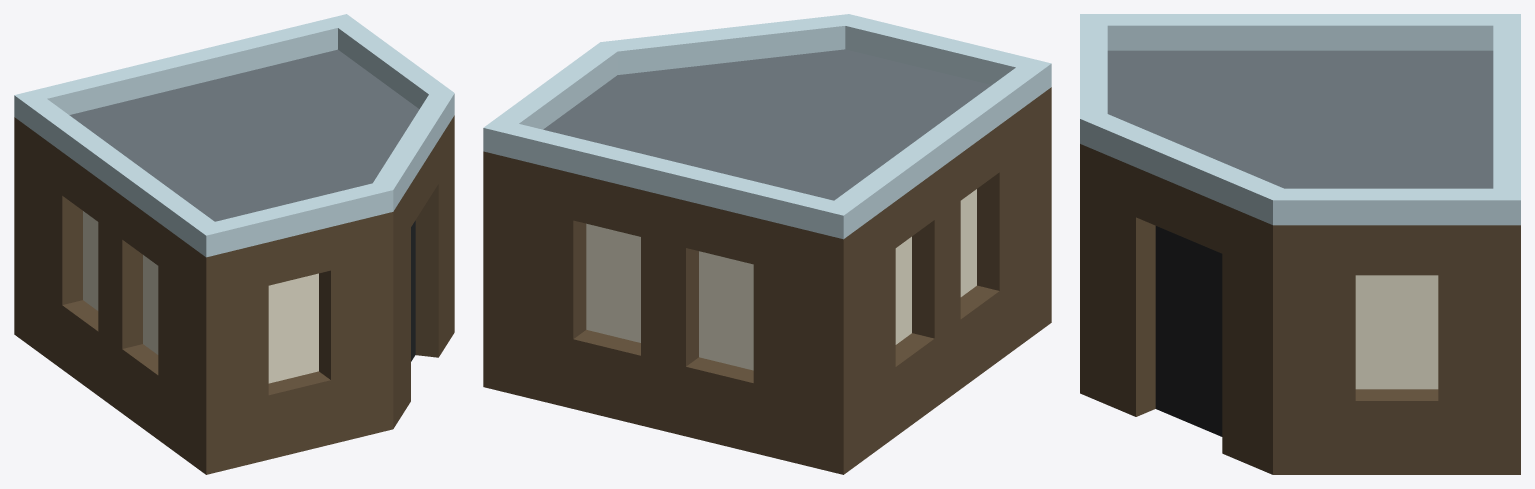
The model's file is Building_10 (Brown).obj.
The picture shows the model from 3 angles, left to right: view 1: azimuth 30°, elevation 25°; view 2: azimuth 150°, elevation 25°; view 3: azimuth 270°, elevation 25°; orthographic projection. The views are drawn at different scales.
Parts seen in each view (by area): view 1: Building_10_(Brown); view 2: Building_10_(Brown); view 3: Building_10_(Brown).
Part boxes in pixels (<box>): Building_10_(Brown): <box>14,14,454,474</box>; Building_10_(Brown): <box>483,14,1051,474</box>; Building_10_(Brown): <box>1080,14,1520,474</box>.
Size of the model in its own units: 1.6 by 1.1 by 1.6.
